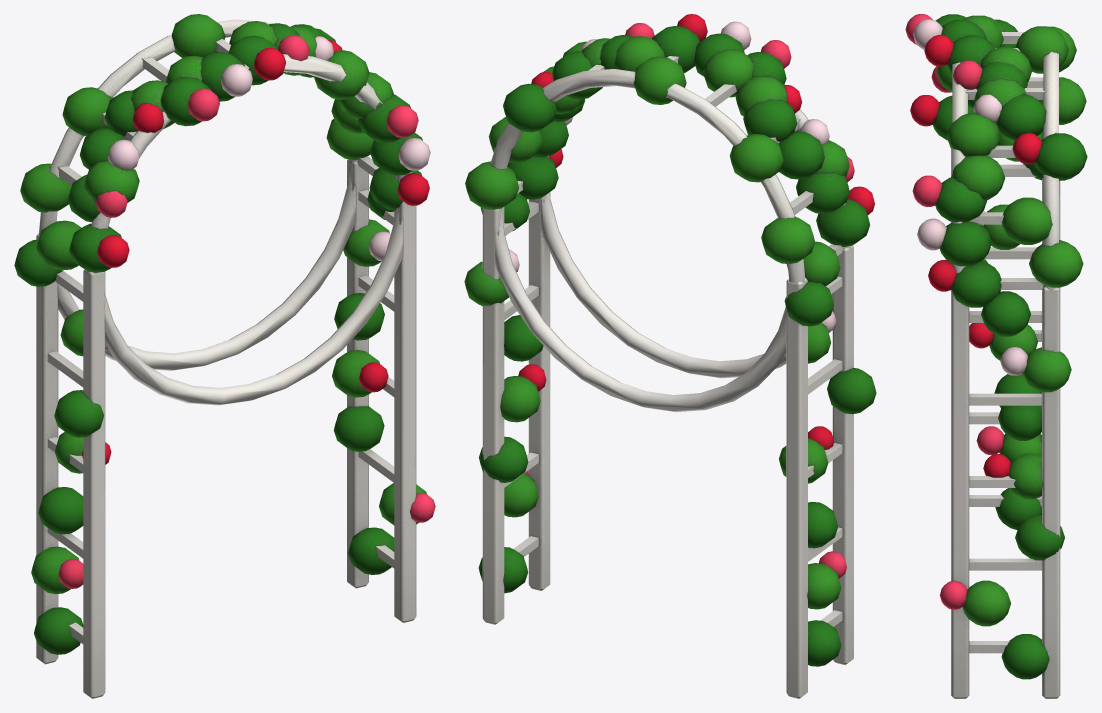
The model's file is flower_arch.glb.
3 renders of one model, left to right at view 1: azimuth 30°, elevation 25°; view 2: azimuth 150°, elevation 25°; view 3: azimuth 270°, elevation 25°, orthographic. The views are drawn at different scales.
Parts seen in each view (by area): view 1: flower_arch; view 2: flower_arch; view 3: flower_arch.
Part boxes in pixels (<box>): flower_arch: <box>14,14,435,698</box>; flower_arch: <box>464,14,876,698</box>; flower_arch: <box>905,14,1087,698</box>.
Bounding box in the file's own units: 0.9237 × 1.43 × 0.4.
1 material, 1 textured.
